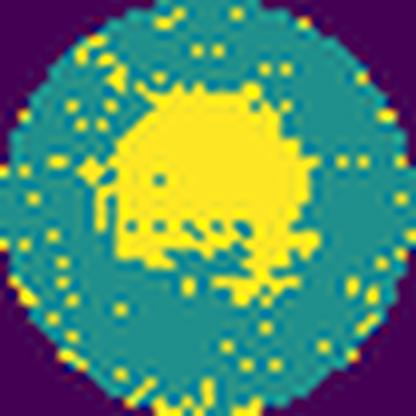Center: (82, 81, 319, 310)
